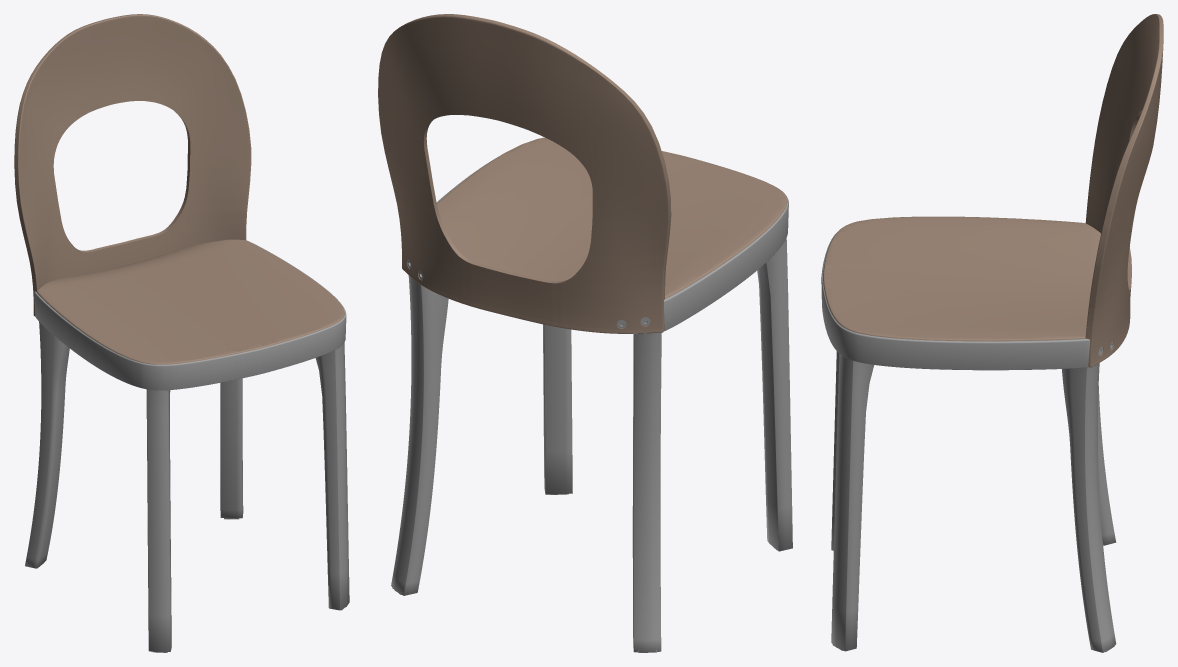
3 renders of one model, left to right at view 1: azimuth 30°, elevation 25°; view 2: azimuth 150°, elevation 25°; view 3: azimuth 270°, elevation 25°, orthographic. The views are drawn at different scales.
Visible parts, largest first — view 1: backrest, seat, frameLegs, frameRim; view 2: backrest, frameLegs, seat, frameRim; view 3: seat, frameLegs, backrest, frameRim.
Boxes of the visible parts, x1,y1,x2,y2 form: backrest: (14, 14, 251, 316); seat: (36, 239, 344, 364); frameLegs: (25, 322, 349, 652); frameRim: (34, 240, 346, 390); backrest: (378, 14, 671, 333); frameLegs: (391, 238, 792, 652); seat: (437, 137, 787, 298); frameRim: (436, 160, 788, 333); seat: (823, 216, 1100, 341); frameLegs: (831, 351, 1116, 652); backrest: (1085, 14, 1163, 367); frameRim: (821, 233, 1090, 370).
Size of the model in its own units: 0.4069 by 0.8443 by 0.4626.
